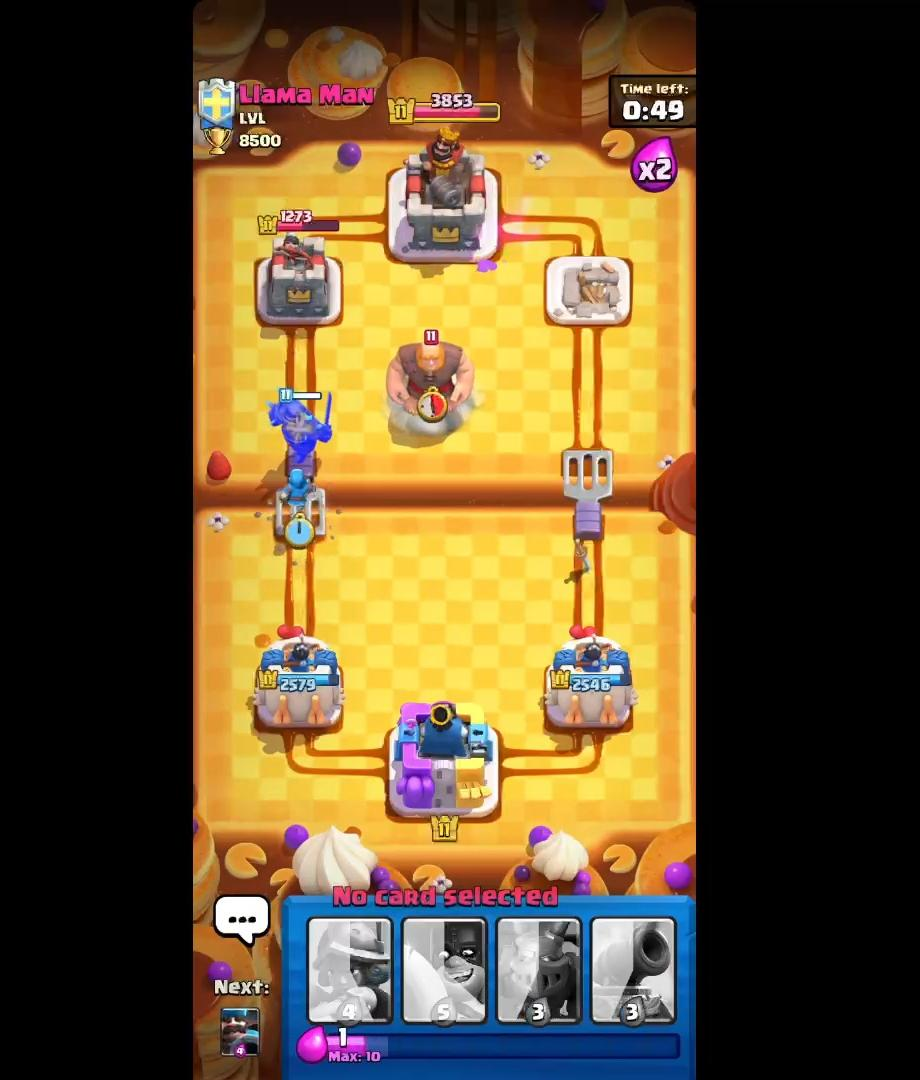Giant: (380, 323, 482, 438)
